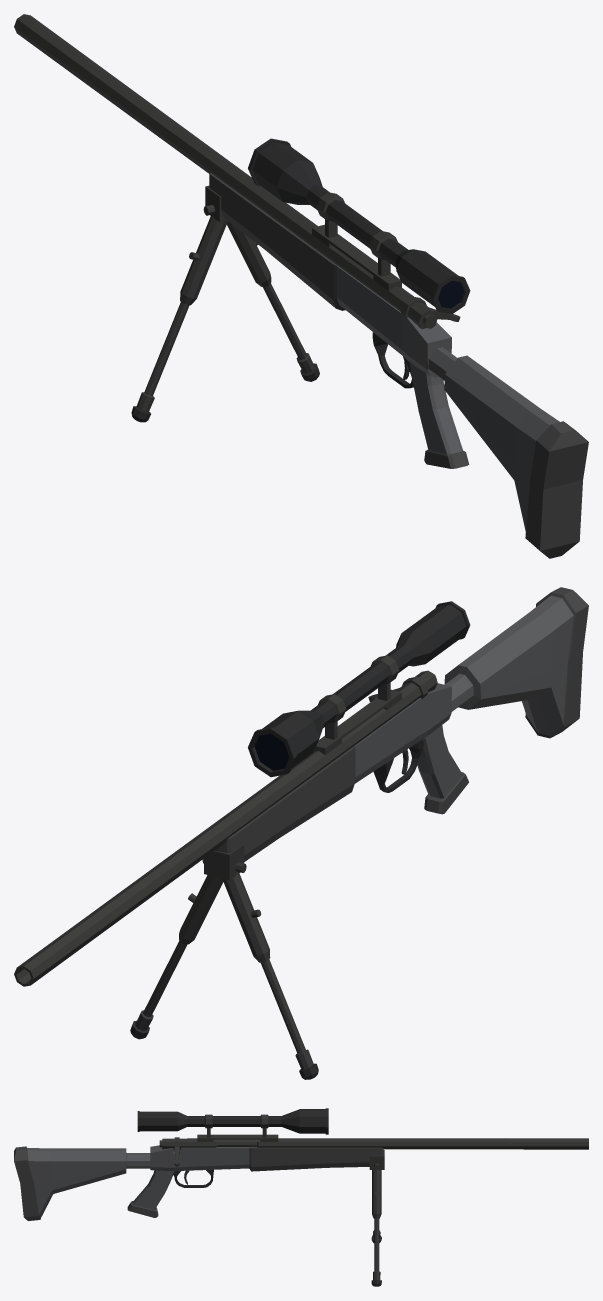
File: marksman.glb
3 renders of one model, top to bottom at view 1: azimuth 30°, elevation 25°; view 2: azimuth 150°, elevation 25°; view 3: azimuth 270°, elevation 25°, orthographic. The views are drawn at different scales.
Parts seen in each view (by area): view 1: SniperRifle_5; view 2: SniperRifle_5; view 3: SniperRifle_5.
Part boxes in pixels (<box>): SniperRifle_5: <box>14,14,588,558</box>; SniperRifle_5: <box>14,587,588,1079</box>; SniperRifle_5: <box>14,1108,588,1286</box>.
Bounding box in the file's own units: 0.2205 × 0.3357 × 1.12.
